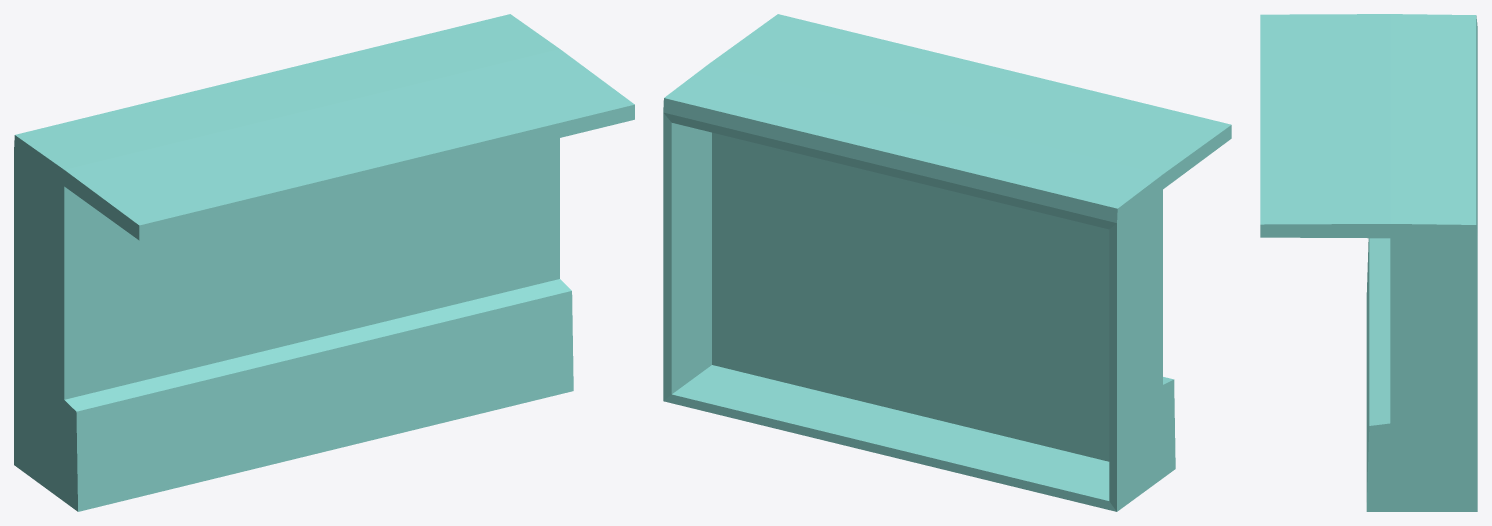
File: DinerBarShort_Collision.fbx
The picture shows the model from 3 angles, left to right: view 1: azimuth 30°, elevation 25°; view 2: azimuth 150°, elevation 25°; view 3: azimuth 270°, elevation 25°; orthographic projection. The views are drawn at different scales.
Visible parts, largest first — view 1: DinerBarShort_Collision; view 2: DinerBarShort_Collision; view 3: DinerBarShort_Collision.
Boxes of the visible parts, x1,y1,x2,y2 form: DinerBarShort_Collision: (14,14,634,511); DinerBarShort_Collision: (663,14,1231,511); DinerBarShort_Collision: (1260,14,1477,511).
Bounding box in the file's own units: 1.53 × 0.9815 × 0.6714.
